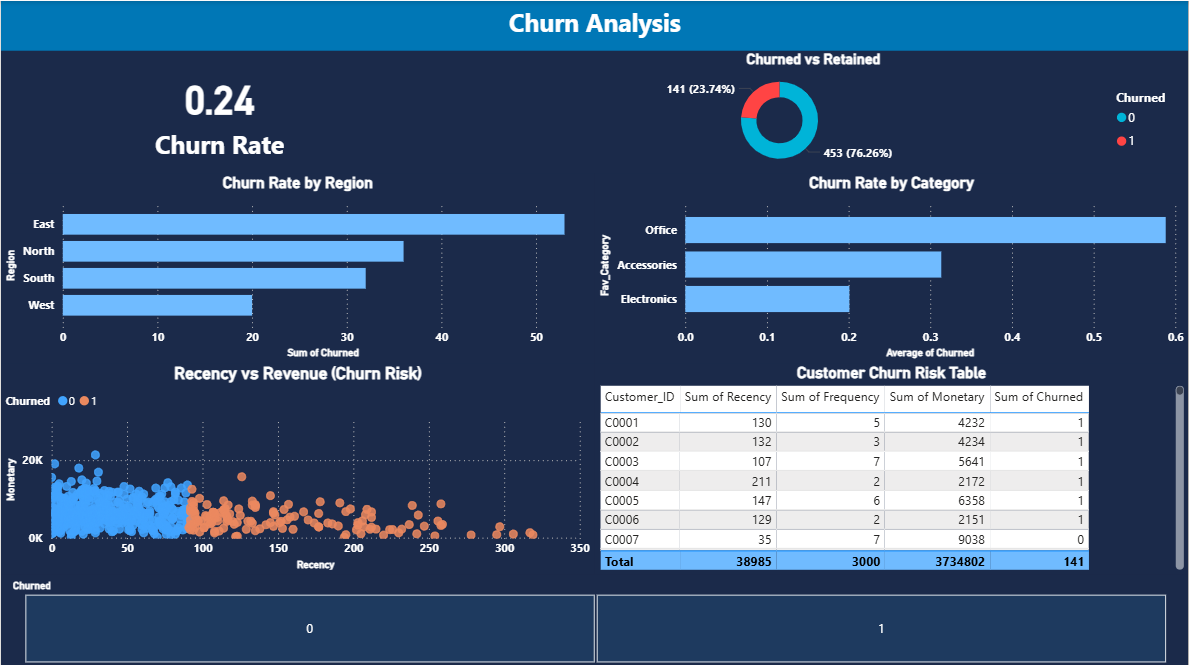

The page's visual inventory and layout, read from the dashboard file:
{"tool":"powerbi","page":{"name":"Churn Analysis","canvas":[1280,720],"ordinal":2},"visuals":[{"type":"textbox","box":[0,0,1280.3,53.5],"z":0},{"type":"card","fields":{"Values":["Avg(customer_features.Churned)"]},"box":[0,53.9,471.7,132.1],"z":1000},{"type":"donutChart","title":"Churned vs Retained","fields":{"Category":["customer_features.Churned"],"Y":["CountNonNull(customer_features.Customer_ID)"]},"box":[471.7,53.9,808.6,132.1],"z":2000},{"type":"clusteredBarChart","title":"Churn Rate by Category","fields":{"Category":["customer_features.Fav_Category"],"Y":["Avg(customer_features.Churned)"]},"box":[640.1,186,640.1,204.8],"z":3000},{"type":"scatterChart","title":"Recency vs Revenue (Churn Risk)","fields":{"X":["customer_features.Recency"],"Y":["customer_features.Monetary"],"Series":["customer_features.Churned"]},"box":[0,390.8,640.1,227.8],"z":4000},{"type":"tableEx","title":"Customer Churn Risk Table","fields":{"Values":["customer_features.Customer_ID","Sum(customer_features.Recency)","Sum(customer_features.Frequency)","Sum(customer_features.Monetary)","Sum(customer_features.Churned)"]},"box":[640.1,390.8,640.1,227.8],"z":5000},{"type":"slicer","fields":{"Values":["customer_features.Churned"]},"box":[0,618.6,1280.3,101.1],"z":6000},{"type":"clusteredBarChart","title":"Churn Rate by Region","fields":{"Category":["customer_features.Region"],"Y":["Sum(customer_features.Churned)"]},"box":[0,186,640.1,204.8],"z":7000}]}

Visuals, with their boxes in screenshot pixels (x1, y1, x2, y2), scaled from the page's 1280x720 canvas onto the 1189x665 screenshot:
textbox: bbox=(0, 0, 1188, 49)
card - Avg(customer_features.Churned): bbox=(0, 50, 438, 172)
"Churned vs Retained" donutChart: bbox=(438, 50, 1188, 172)
"Churn Rate by Category" clusteredBarChart: bbox=(595, 172, 1188, 361)
"Recency vs Revenue (Churn Risk)" scatterChart: bbox=(0, 361, 595, 571)
"Customer Churn Risk Table" tableEx: bbox=(595, 361, 1188, 571)
slicer - customer_features.Churned: bbox=(0, 571, 1188, 664)
"Churn Rate by Region" clusteredBarChart: bbox=(0, 172, 595, 361)
